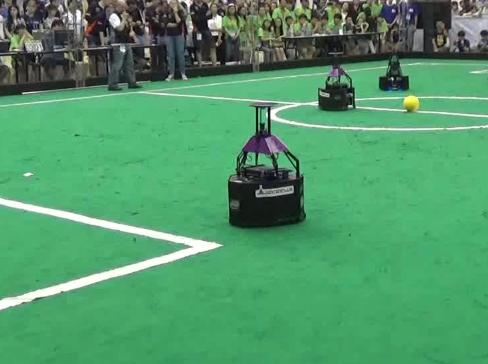robot: (223, 97, 309, 228), (315, 51, 359, 111), (378, 41, 410, 91)
